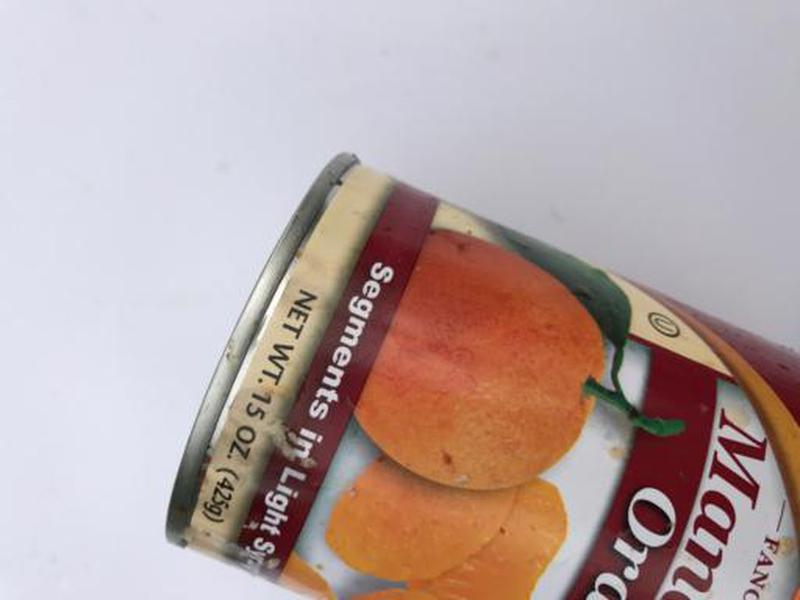can: (156, 149, 800, 600)
